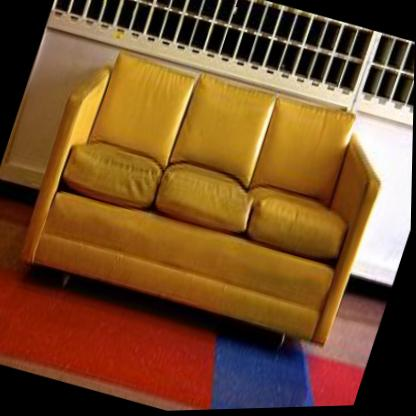Carpet: (0, 270, 366, 412)
Sofa: (5, 28, 403, 375)
